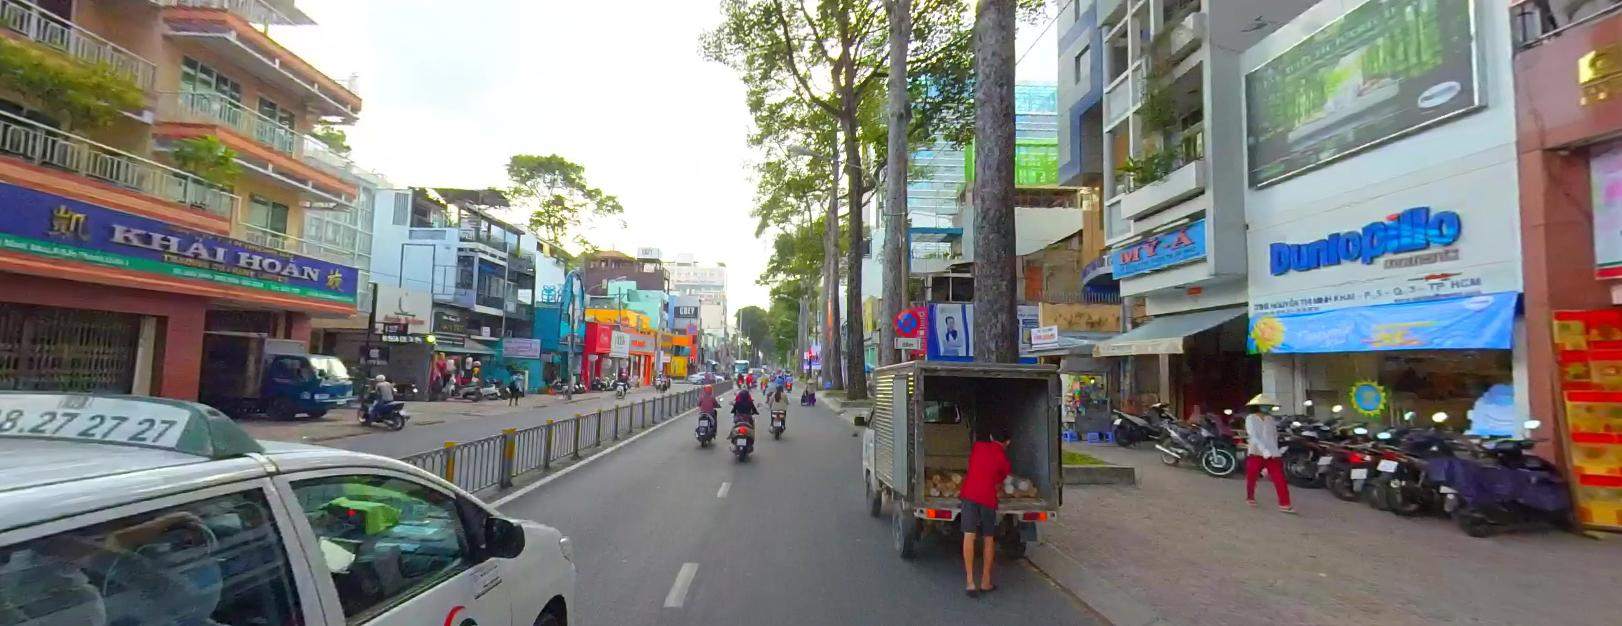Cam dung va do: (892, 308, 922, 334)
